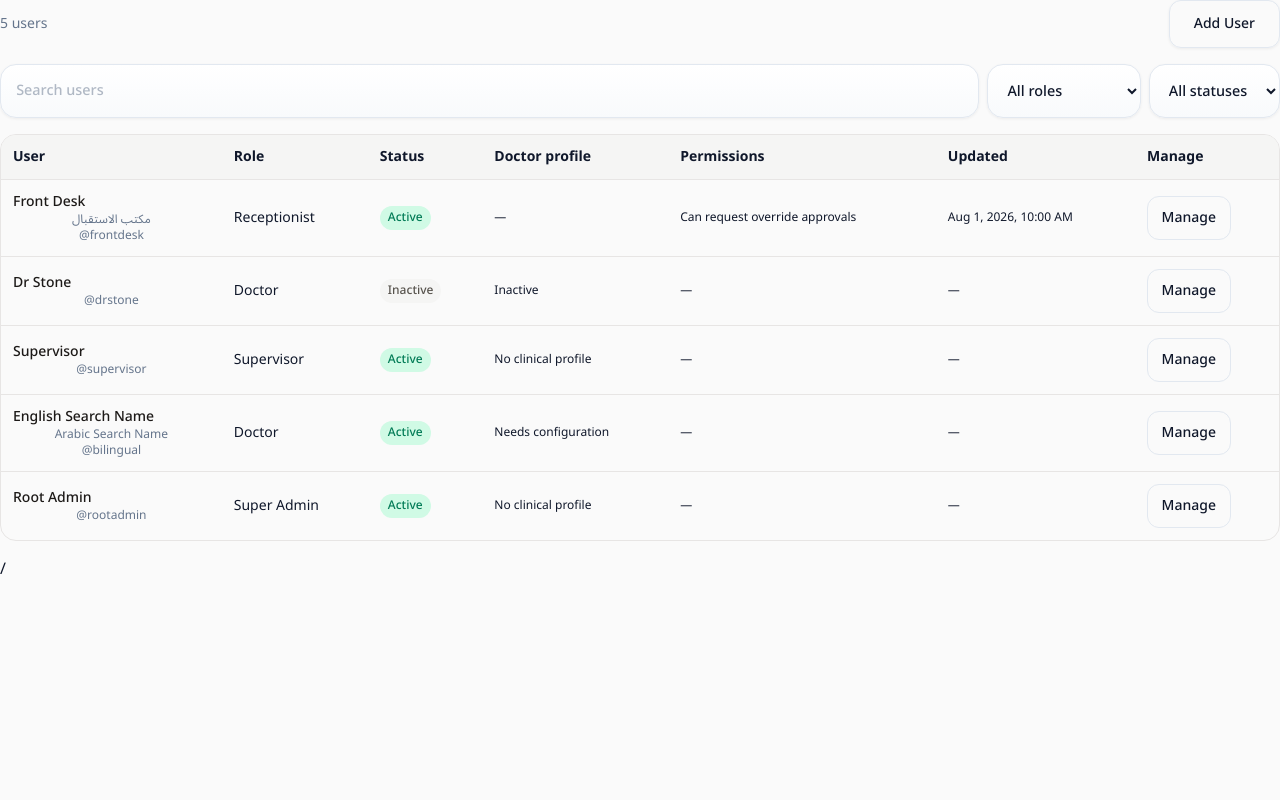
it: UsersSection › shows every role to Super Admin and displays role update failures in Manage
Click the button "Manage" in the row of "Front Desk" at (1189, 218), box 1147,196 -> 1231,240
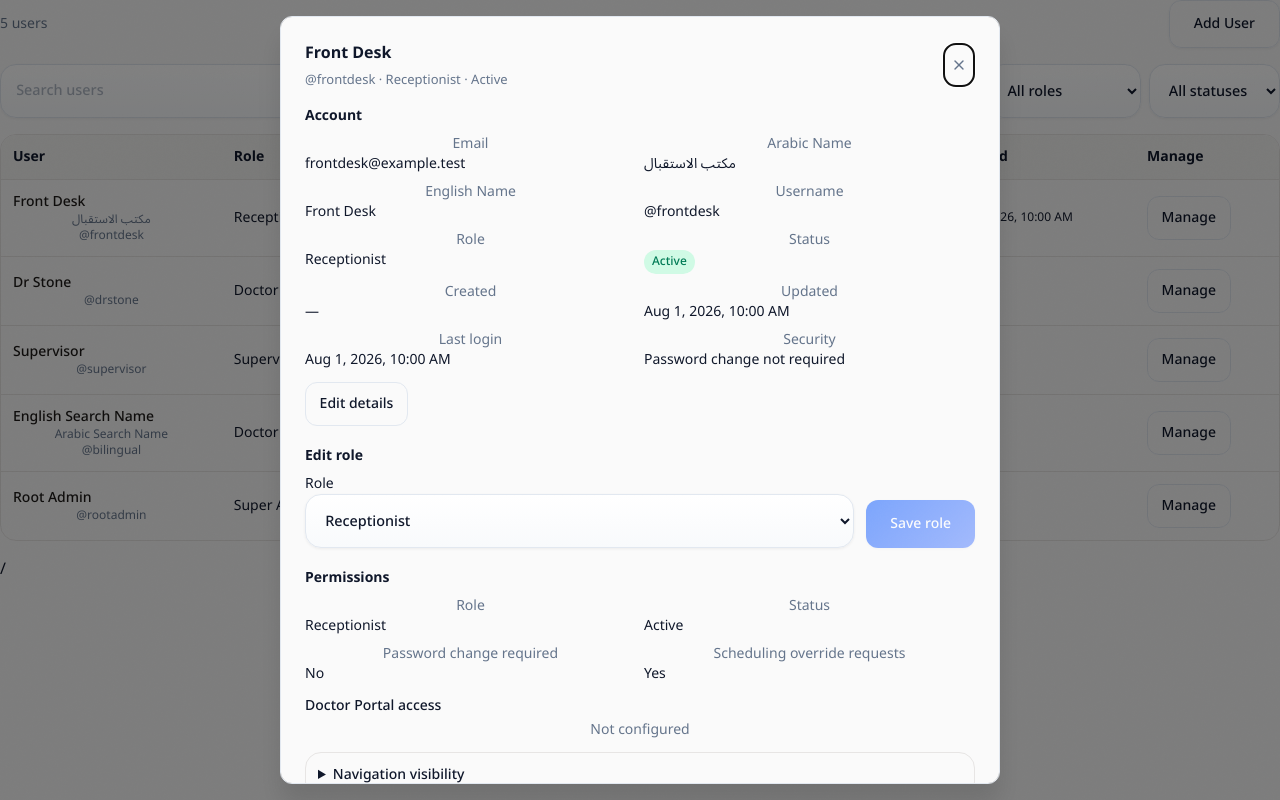
Select "Supervisor" in the dropdown named "Edit role" at (580, 521), box 305,494 -> 854,548
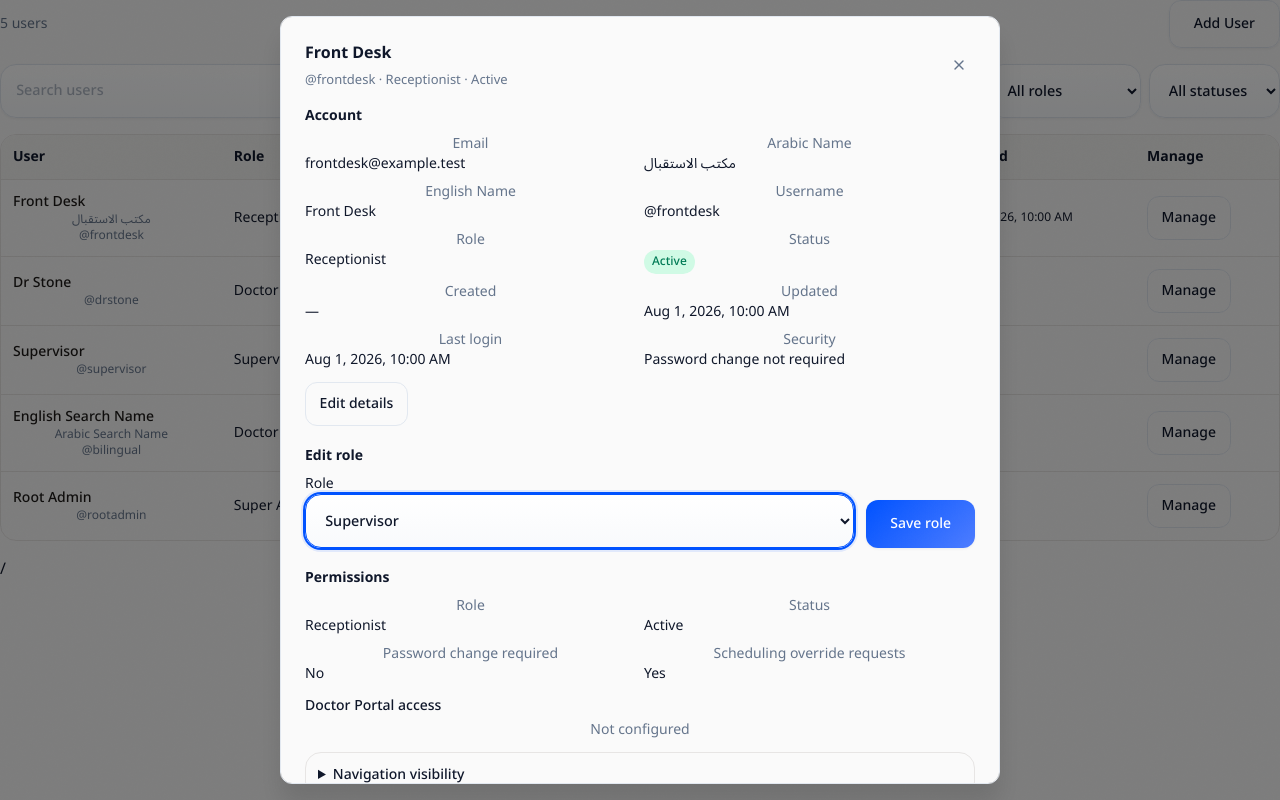
Click the button "Save role" at (921, 524), box 866,500 -> 975,548
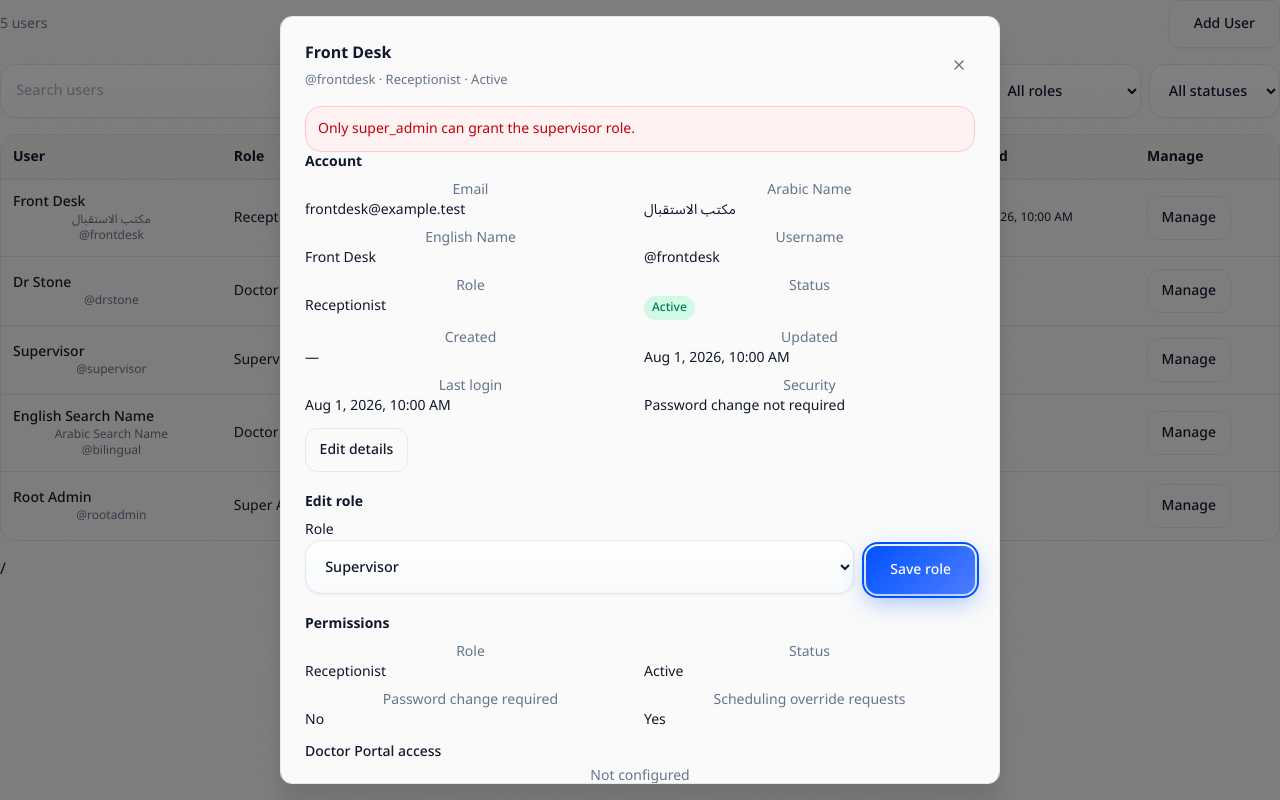
Now the message reads "Only super_admin can grant the supervisor role.", box 318,114 -> 635,143
